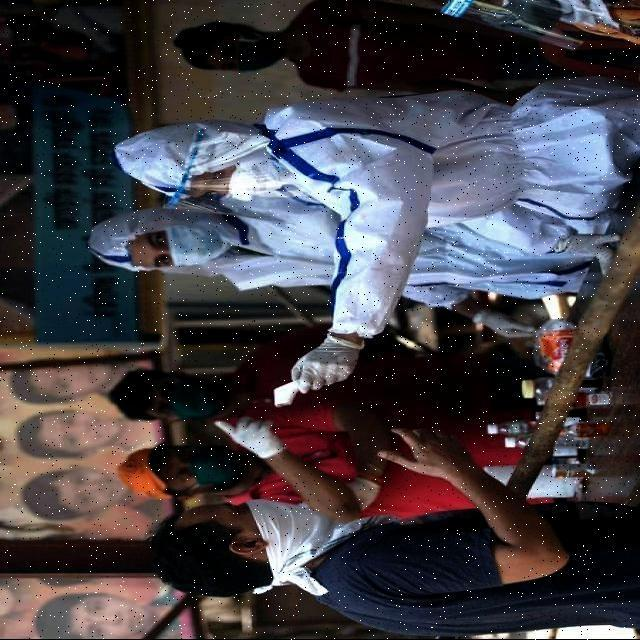apron: (466, 294, 544, 359), (210, 406, 298, 461), (290, 328, 350, 408), (341, 471, 378, 521)
gloves: (108, 122, 174, 199), (84, 212, 128, 270)
mask: (170, 216, 228, 274), (184, 442, 244, 489), (228, 157, 286, 196), (172, 374, 212, 430), (234, 28, 276, 76)
no_apron: (367, 420, 475, 480)
no_gloves: (150, 522, 226, 602), (106, 453, 178, 503), (168, 23, 214, 66), (109, 384, 154, 422)
